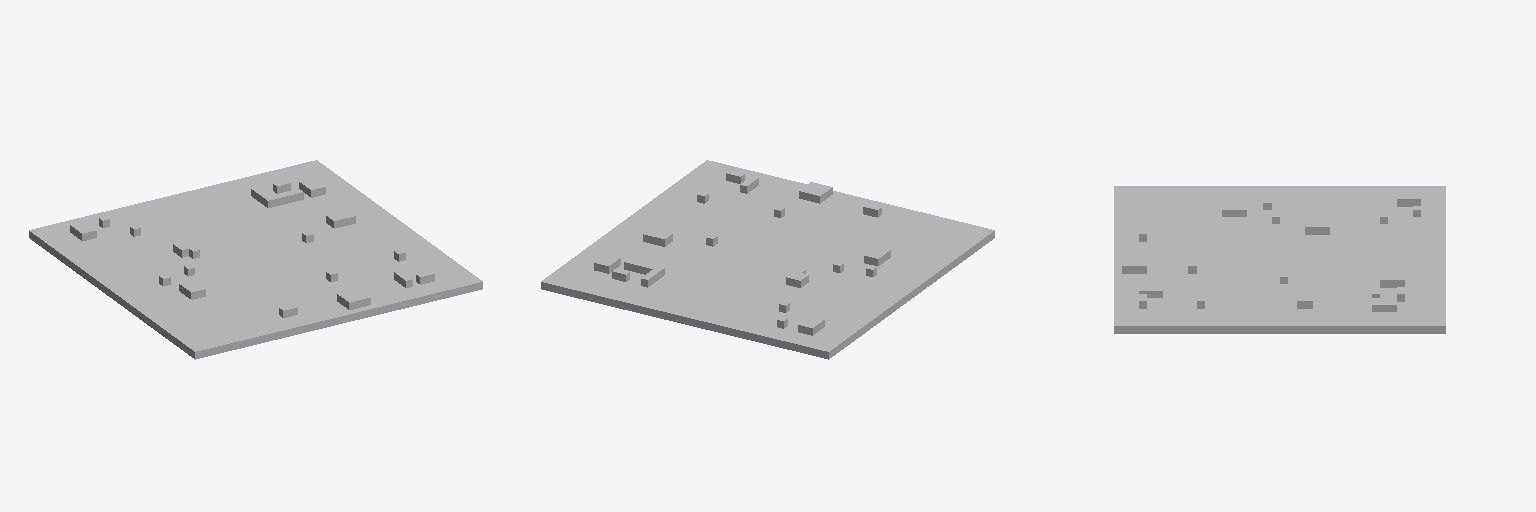
The model's file is floor2.obj.
3 views of the same model, side by side, from view 1: azimuth 30°, elevation 25°; view 2: azimuth 150°, elevation 25°; view 3: azimuth 270°, elevation 25° (orthographic).
Visible parts, largest first — view 1: floor2; view 2: floor2; view 3: floor2.
Part boxes in pixels (bbox=[...]): floor2: bbox=[29, 160, 482, 359]; floor2: bbox=[541, 160, 994, 359]; floor2: bbox=[1114, 186, 1445, 333].
Bounding box in the file's own units: 40 × 2 × 40.